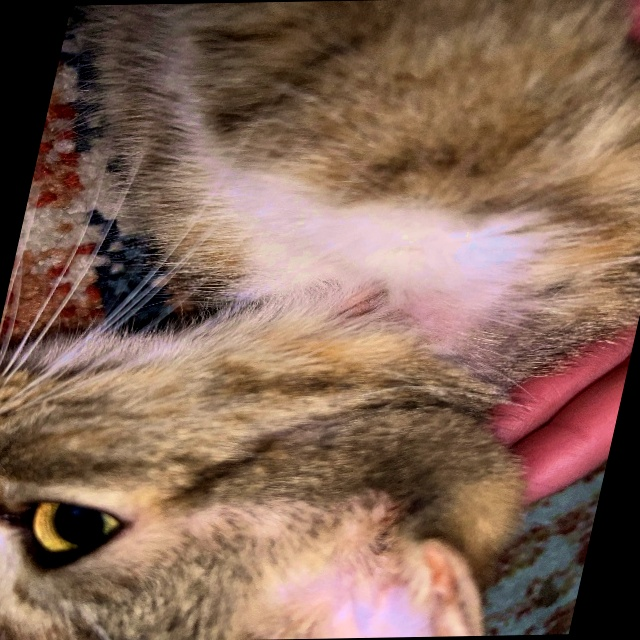hairloss: (301, 278, 525, 362)
